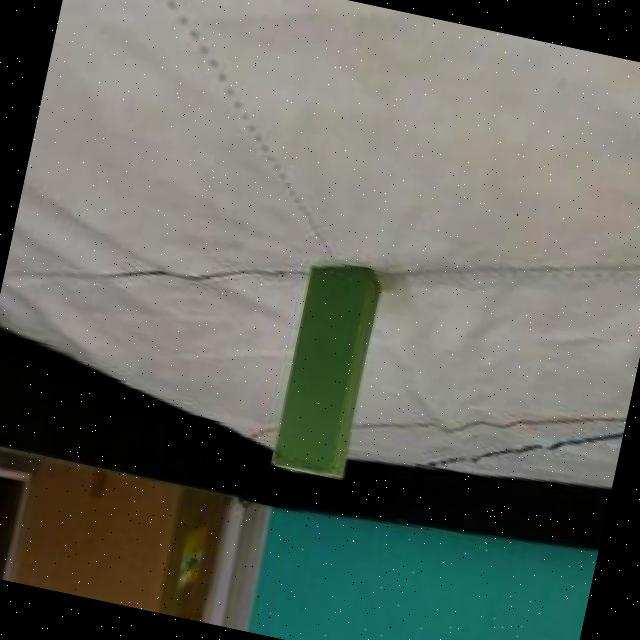greenbox: (266, 252, 384, 483)
